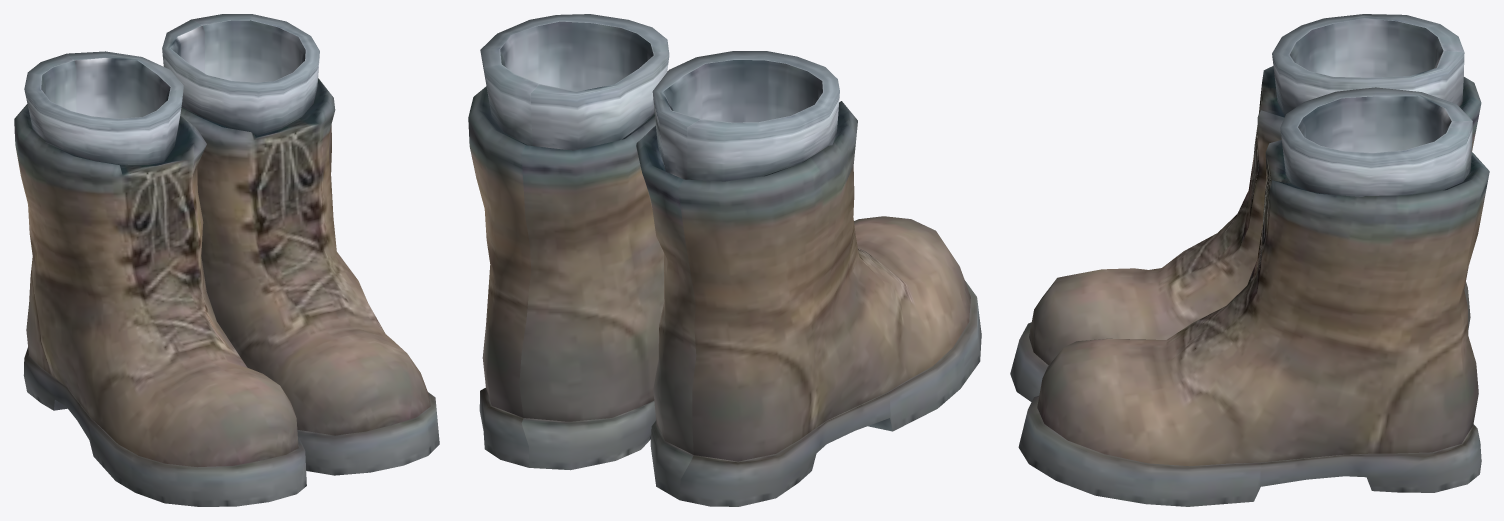
Rendered from boots.glb.
The picture shows the model from 3 angles, left to right: view 1: azimuth 30°, elevation 25°; view 2: azimuth 150°, elevation 25°; view 3: azimuth 270°, elevation 25°; orthographic projection. The views are drawn at different scales.
Visible parts, largest first — view 1: player_urban_feet_LOD0; view 2: player_urban_feet_LOD0; view 3: player_urban_feet_LOD0.
Boxes of the visible parts, x1=… form: player_urban_feet_LOD0: x1=14, y1=14, x2=439, y2=506; player_urban_feet_LOD0: x1=468, y1=14, x2=981, y2=506; player_urban_feet_LOD0: x1=1010, y1=14, x2=1489, y2=506.
Size of the model in its own units: 0.2121 by 0.2212 by 0.2758.
Materials: 1 (1 with a texture image).
